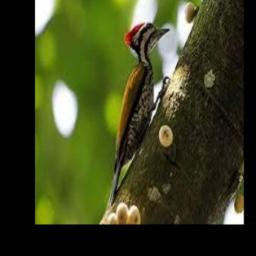Woodpecker: (108, 23, 170, 207)
